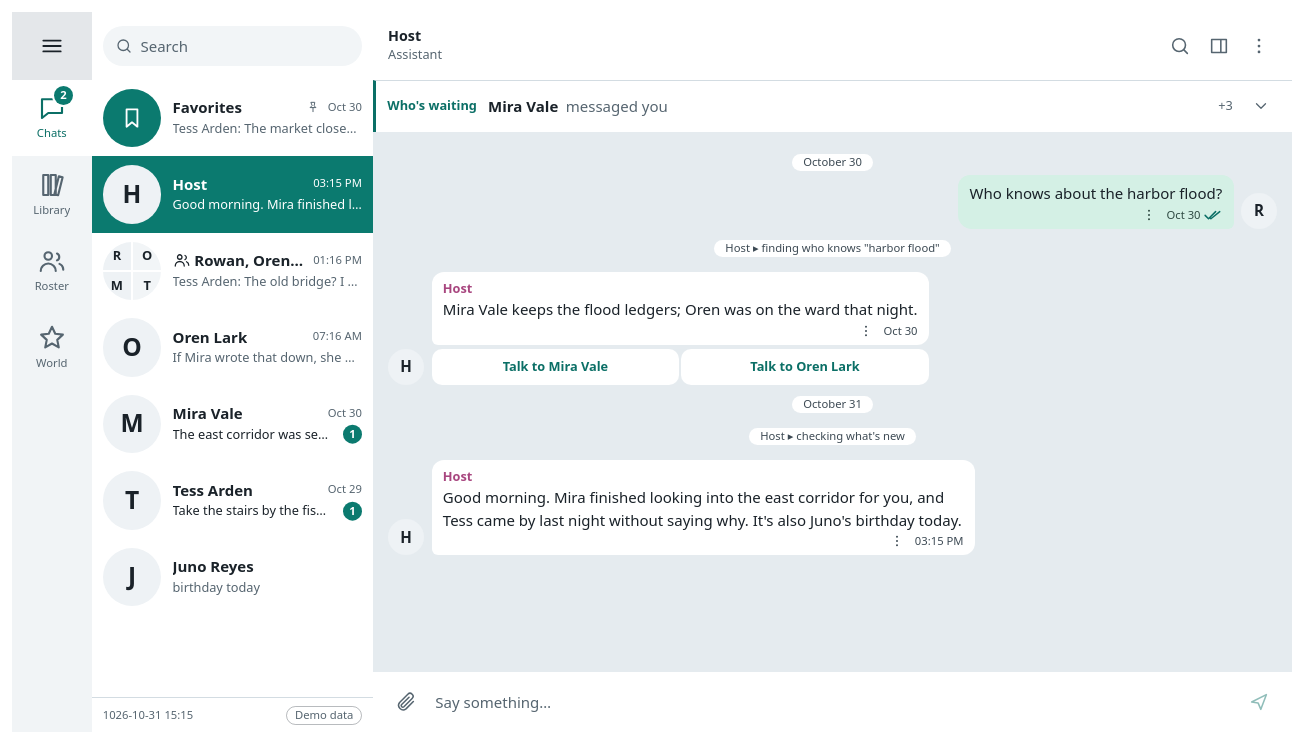
Test: the member list starts with the user, who cannot be taken out
Check: the heading "Who's waiting" is shown, box [387, 98, 477, 114]
Click the button "Roster" at (52, 271), box [12, 232, 92, 309]
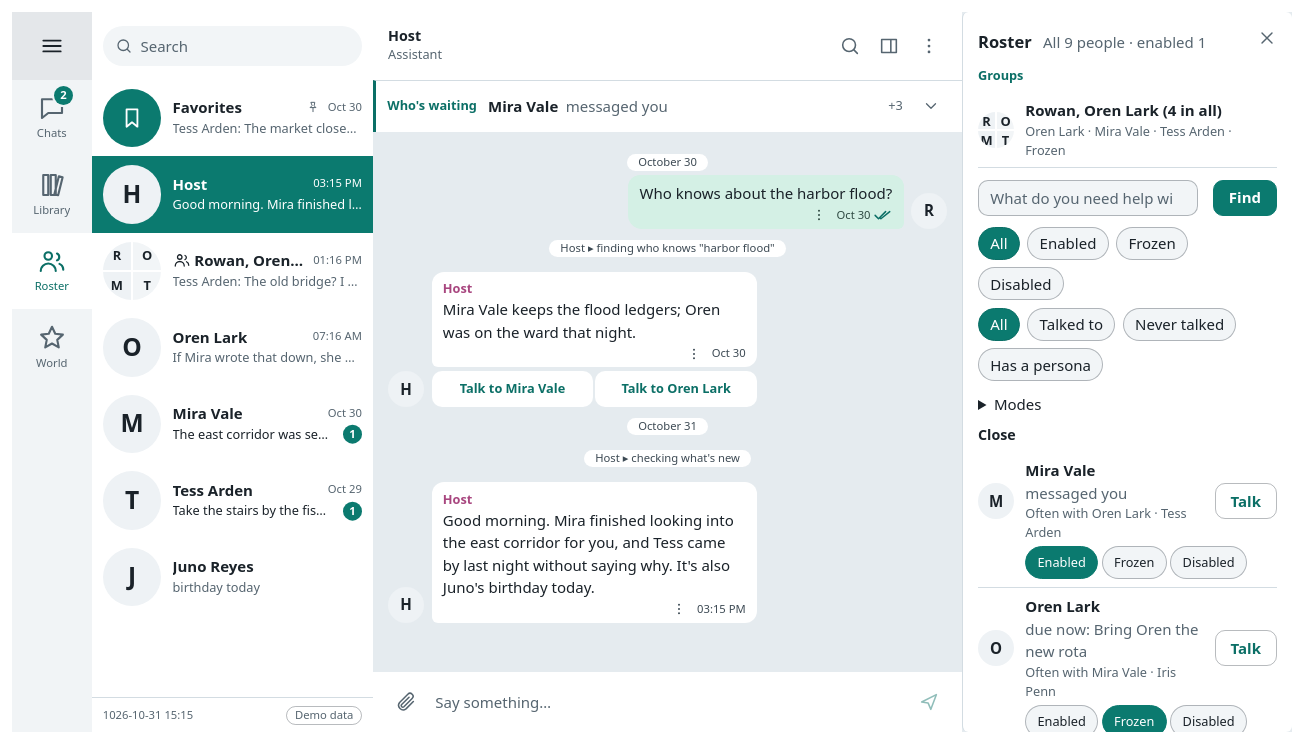
Click the button "Rowan, Oren Lark (4 in all)" at (1124, 110), box [1025, 99, 1222, 122]
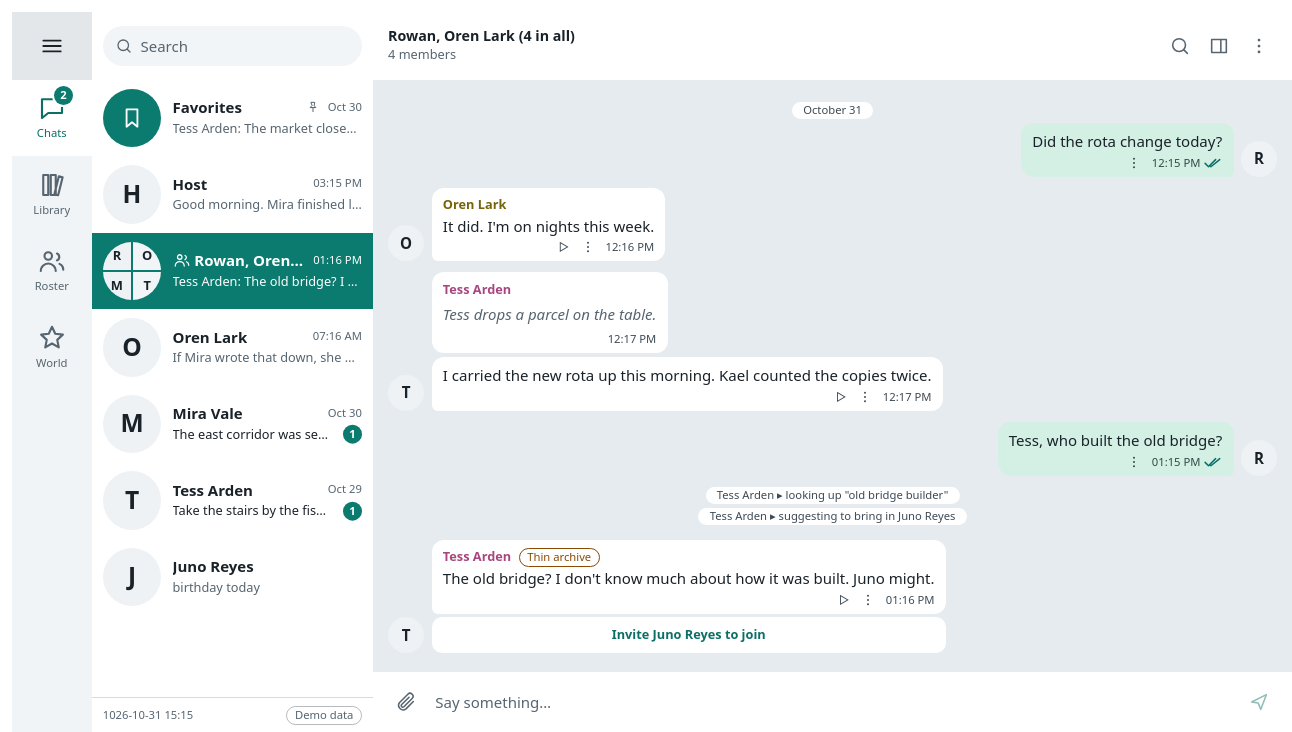
Click the button named "Group info" at (1219, 46), box [1201, 28, 1237, 64]
(page scrolled)
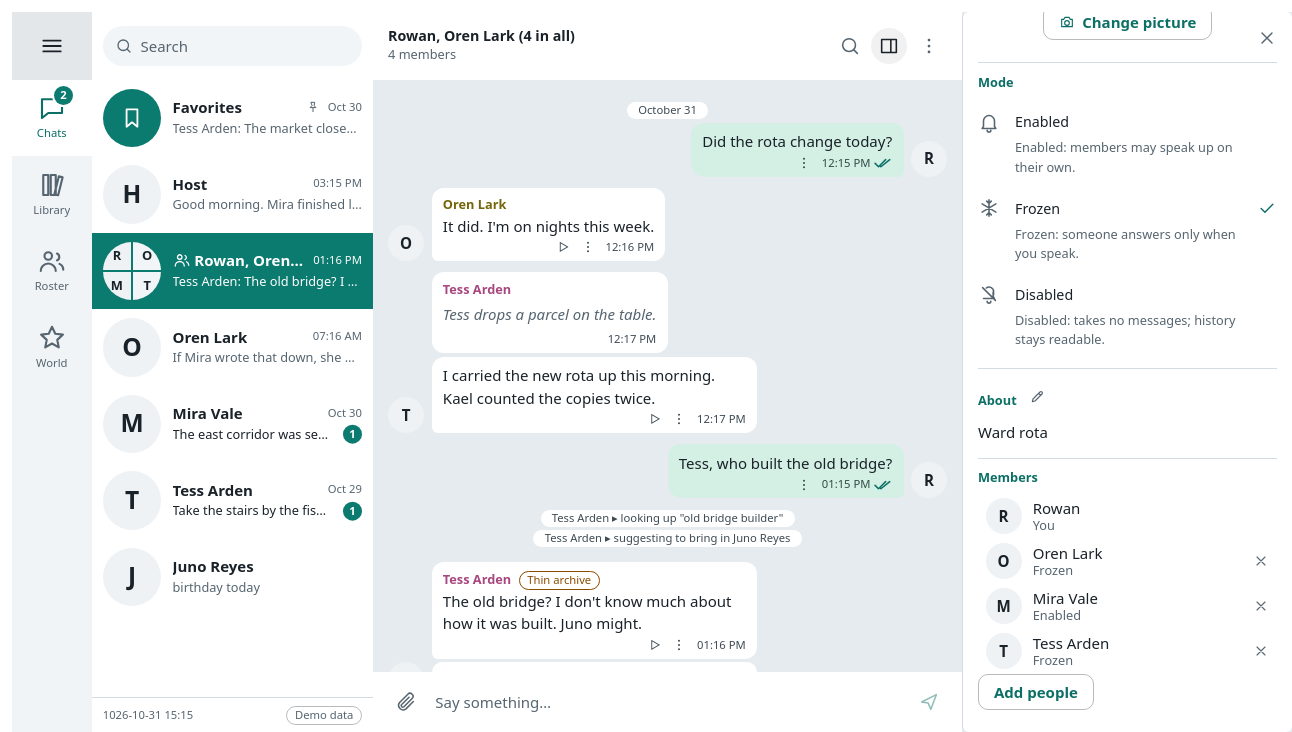
Check: the list item "R Rowan You" is shown, box [978, 494, 1277, 539]
Check: the list item "O Oren Lark Frozen" is shown, box [978, 539, 1277, 584]
Check: the button named "Take Oren Lark out" is shown, box [1244, 545, 1277, 578]
